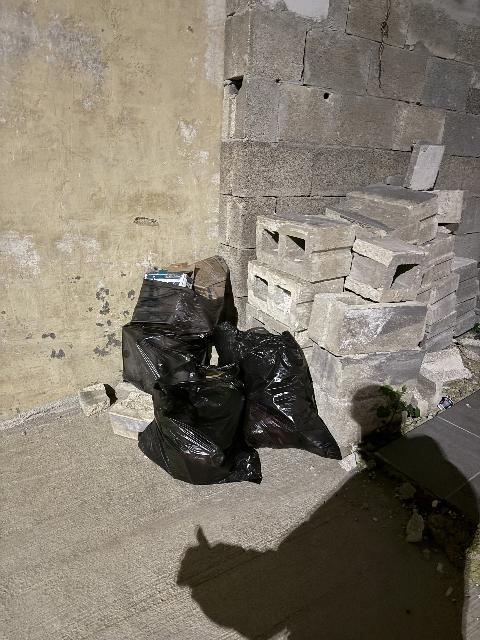Mixed -Black-: (214, 322, 341, 459), (138, 362, 262, 485)
Recyclable -Grey-: (122, 256, 229, 395)
